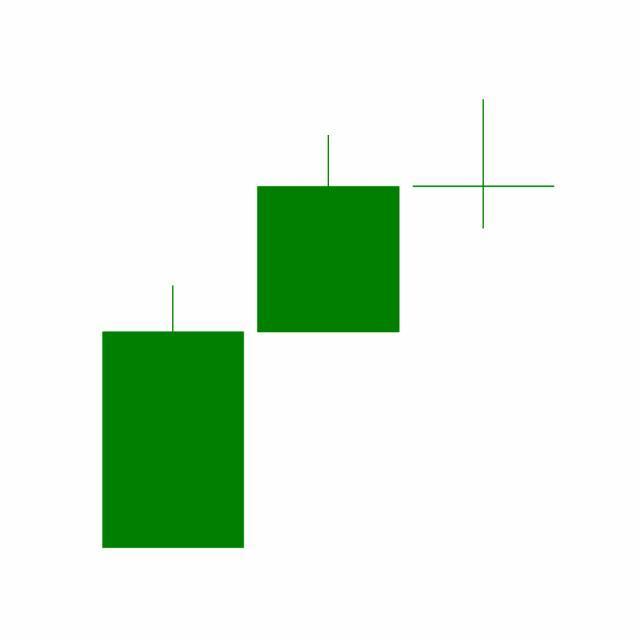Spinning Top: (406, 99, 562, 232)
